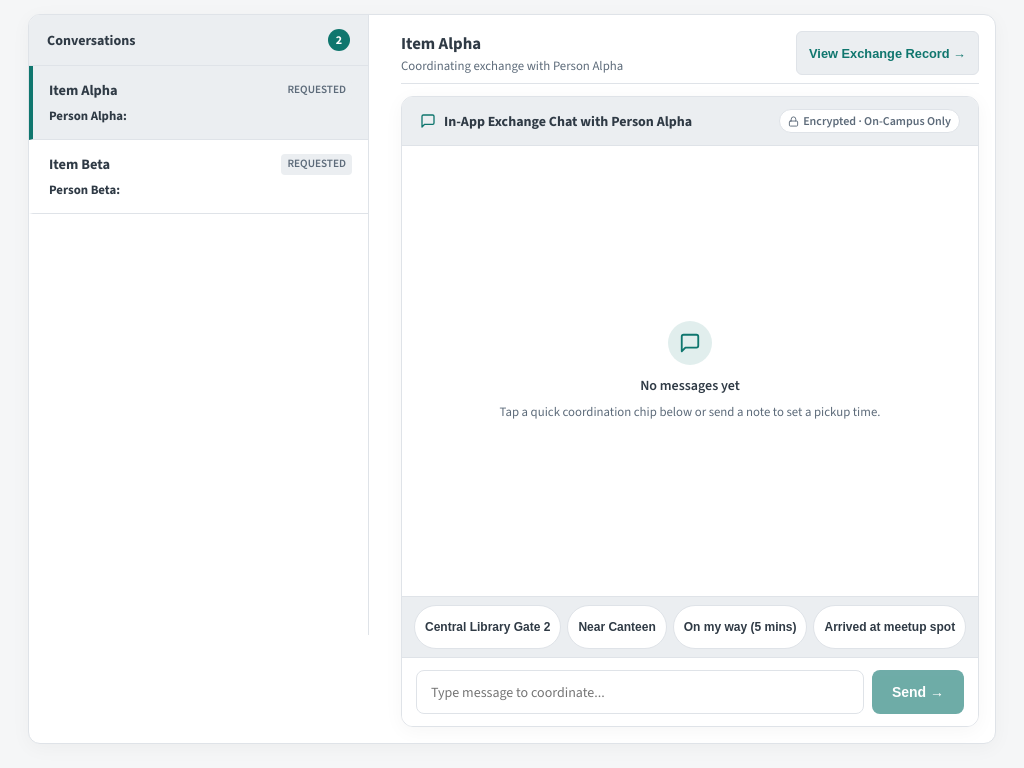
audit regression › does not carry drafts into another recipient
(page scrolled)
Expected: the text "Item Beta" is shown, [49,154,110,175]
Type "private Alpha draft" into the field with placeholder "Type message to coordinate..." at point(640, 692), box [416,670,864,714]
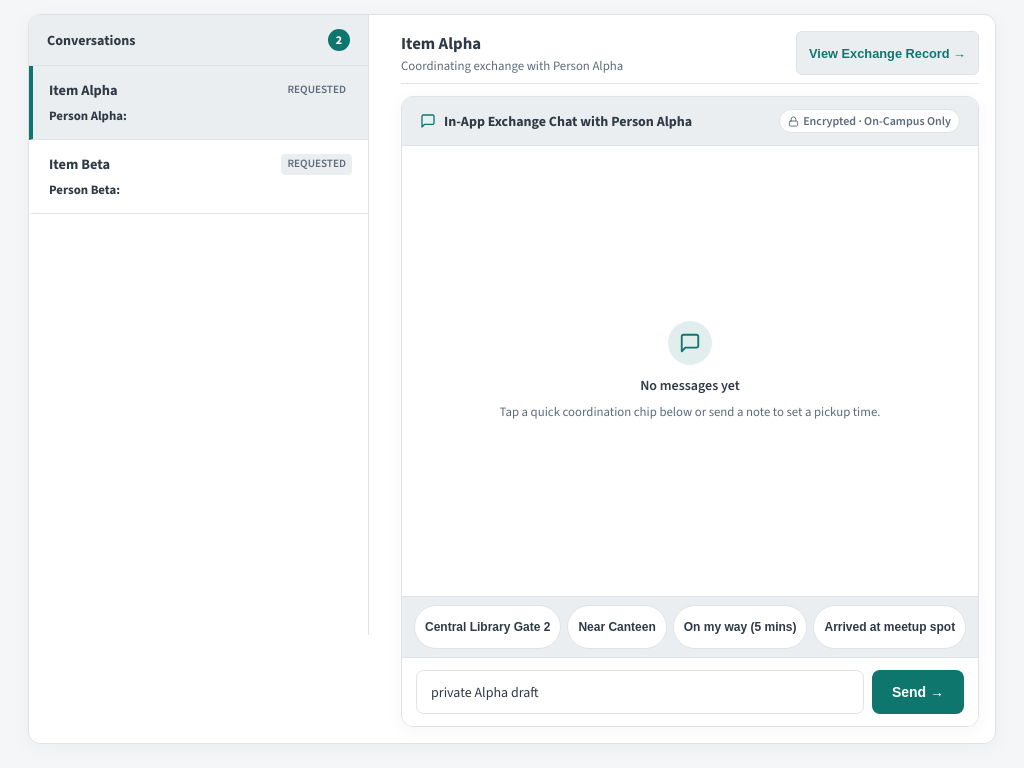
Click the button "Item Beta requested Person Beta:" at point(80, 164), box [29,140,368,214]
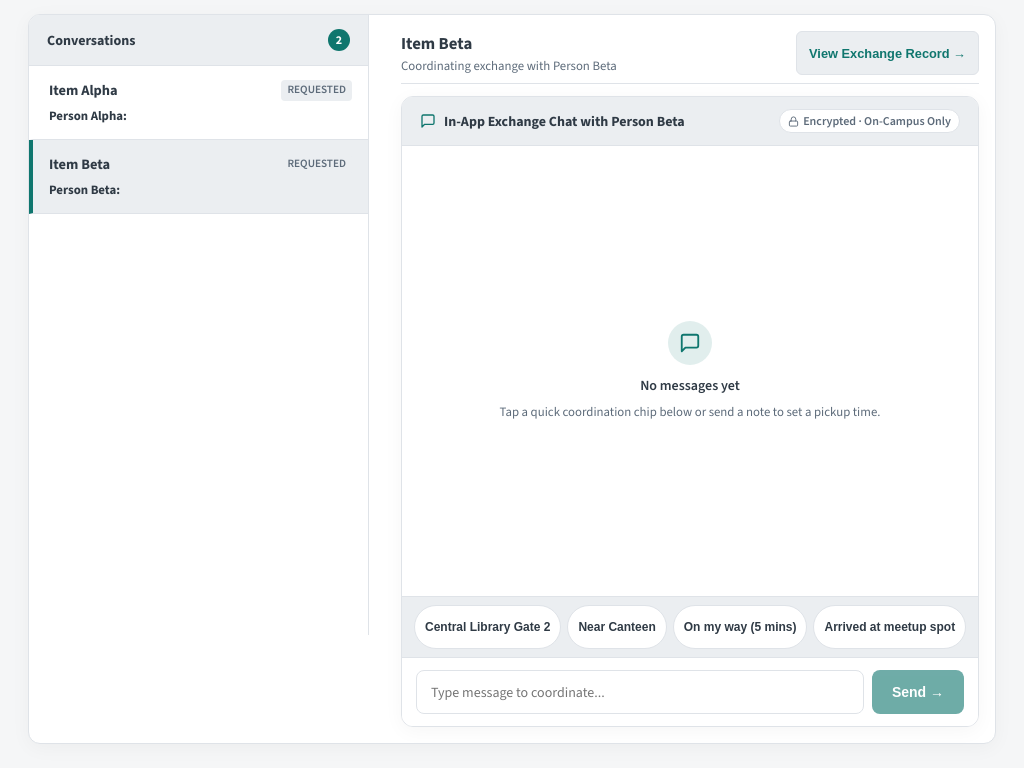
Result: the field with placeholder "Type message to coordinate..." is empty at [416,670,864,714]
Result: the button "Send →" is disabled at [872,670,964,714]
